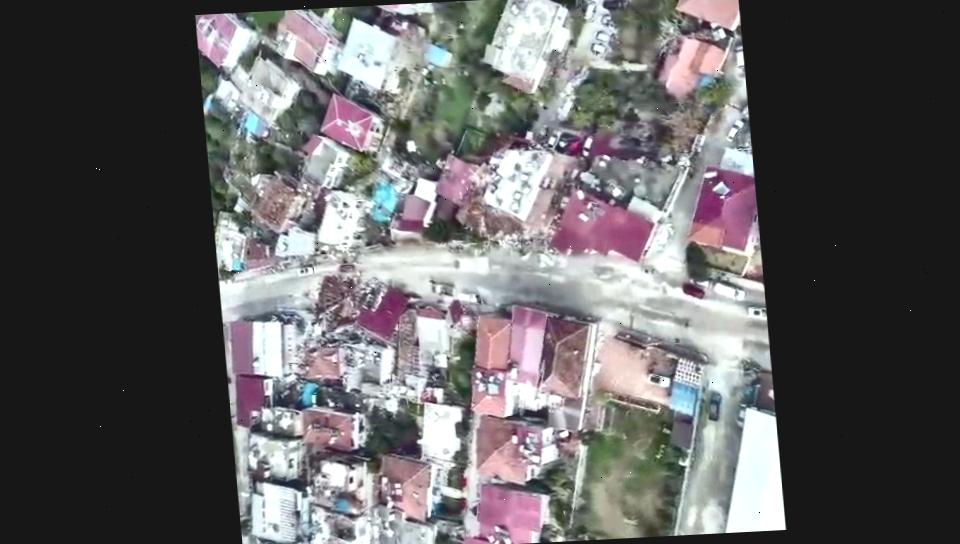kapali: (288, 248, 427, 308)
